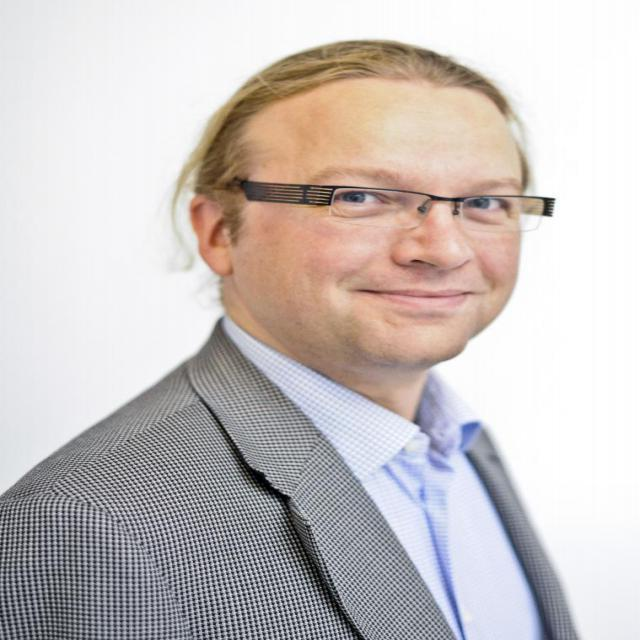closed-mouth: (351, 280, 483, 319)
